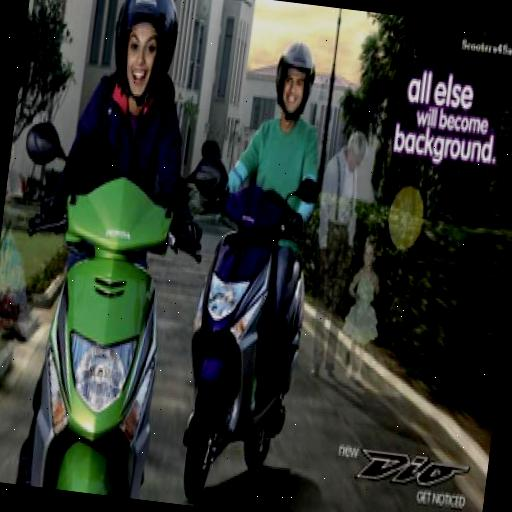helmet: (5, 0, 202, 487), (162, 12, 344, 485)
